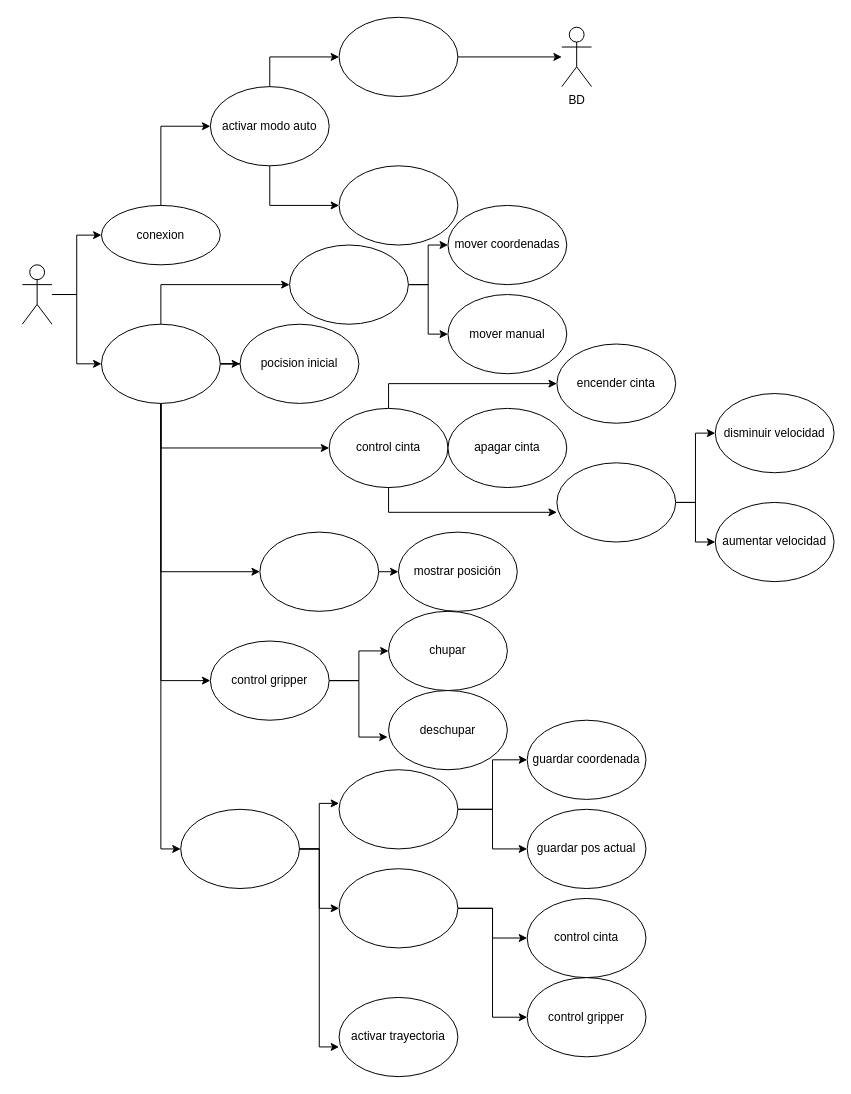
Some shapes in this 851 by 1094 pixel diagram are drawn without their labels. Here are the shapes that lost their labels. From the top down, the box of each, then its label:
(338, 16, 458, 97): activar modo automatico
(338, 165, 458, 245): Desactivar
(21, 264, 52, 324): Usuario
(289, 244, 408, 324): mover brazo
(100, 323, 220, 403): activar modo manual
(556, 462, 676, 542): fijar velocidad
(259, 531, 379, 611): mostrar estado
(338, 769, 458, 849): guardar posicion
(180, 808, 299, 889): crear trayectoria
(338, 868, 458, 948): guardar orden
